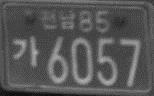0: (70, 35, 94, 85)
5: (95, 35, 119, 86), (94, 9, 111, 34)
6: (46, 35, 69, 83)
7: (118, 37, 142, 88)
8: (78, 8, 94, 33)
가: (12, 34, 40, 70)
전남_O: (39, 7, 77, 31)
